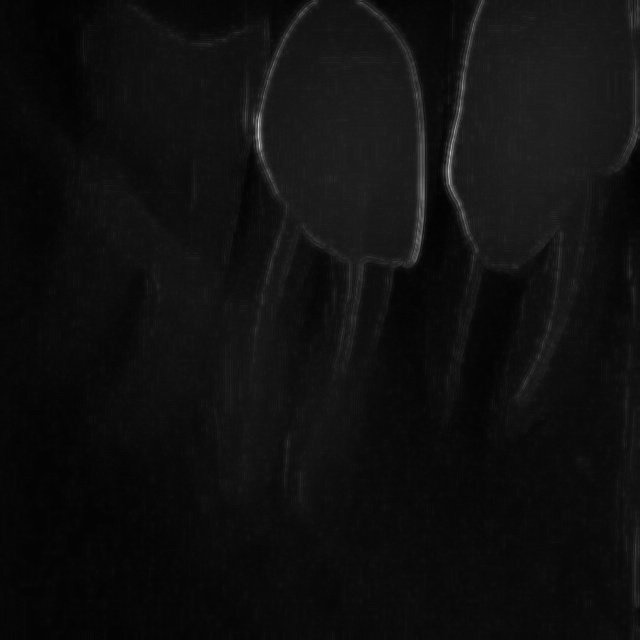Class 0- No endodontic treatment: (217, 3, 440, 560), (412, 1, 640, 476)
